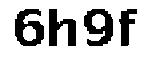6: (9, 6, 44, 53)
9: (81, 6, 116, 50)
f: (116, 6, 139, 53)
h: (47, 5, 79, 51)
